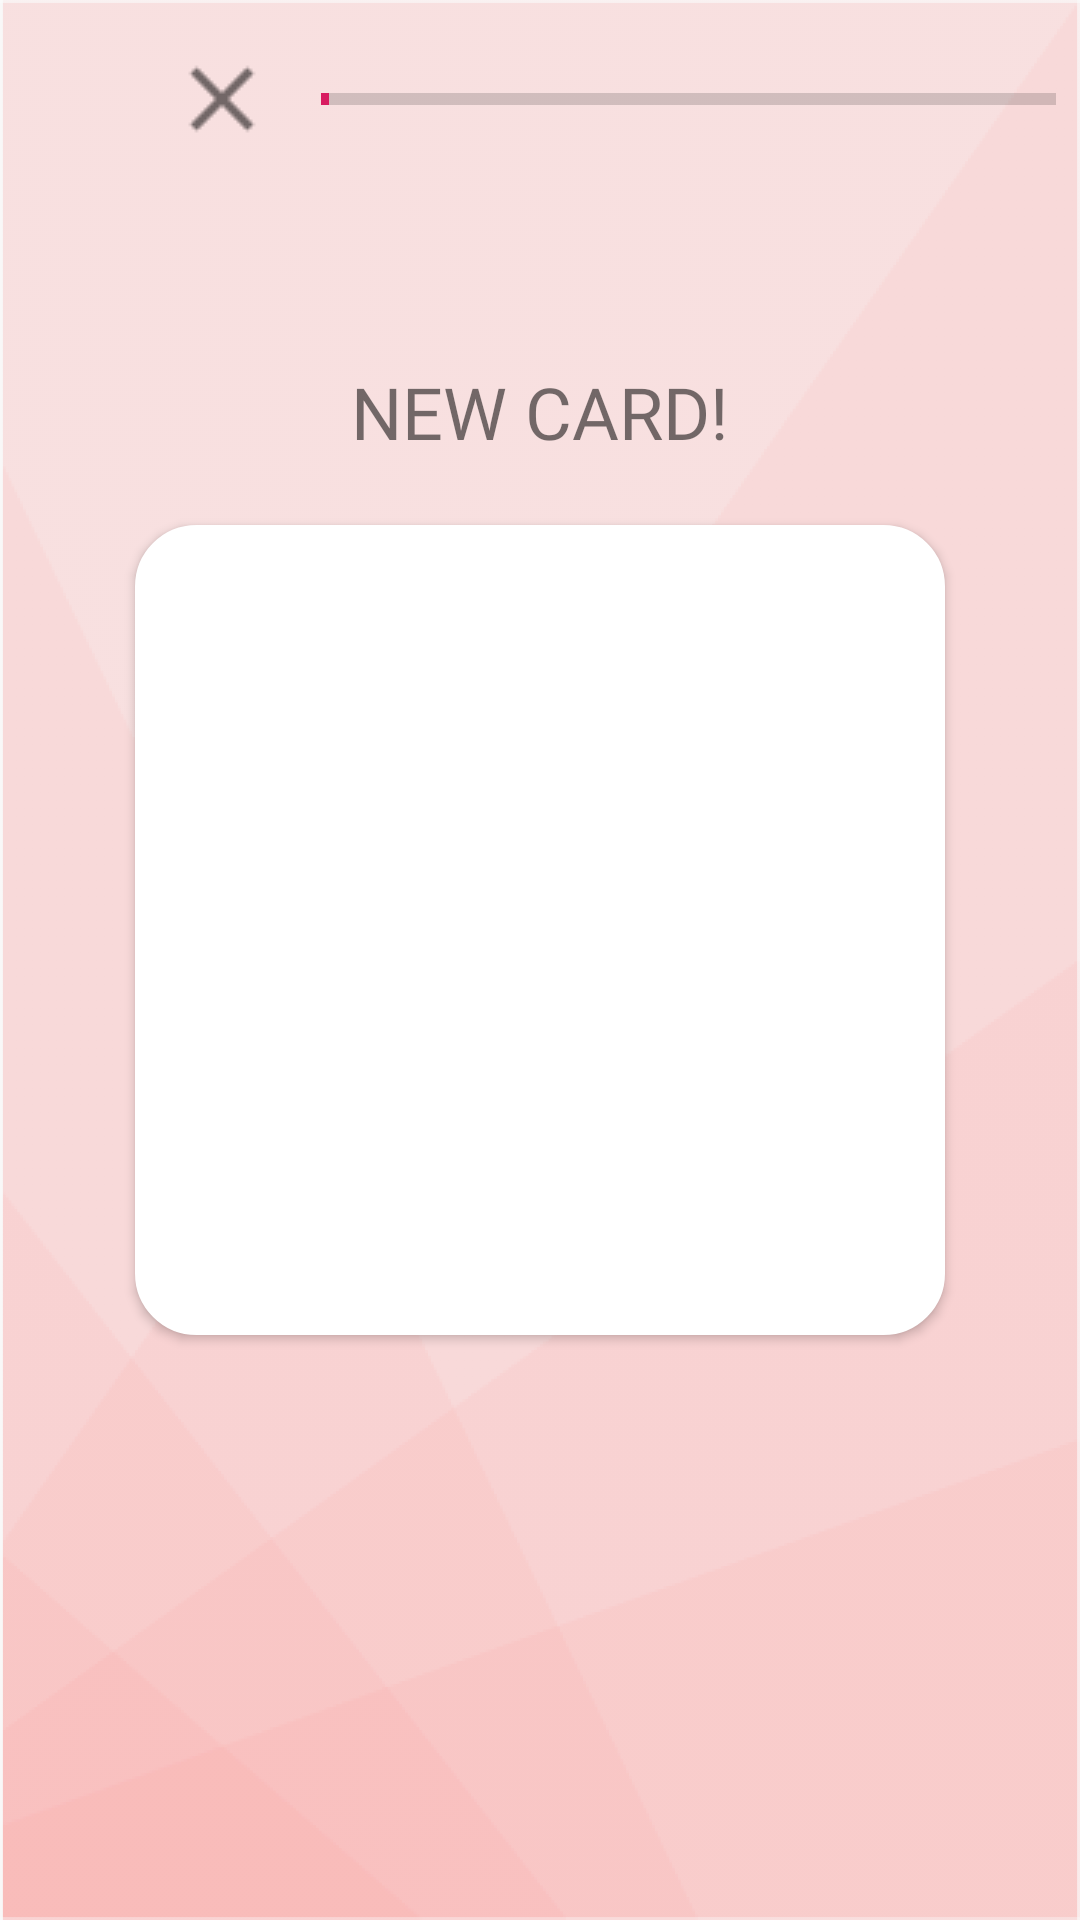

Icons on this 1080w x 1920h Android screen, each with its box as (x1, y1, x2, y2):
close fragment card: (190, 67, 254, 131)
